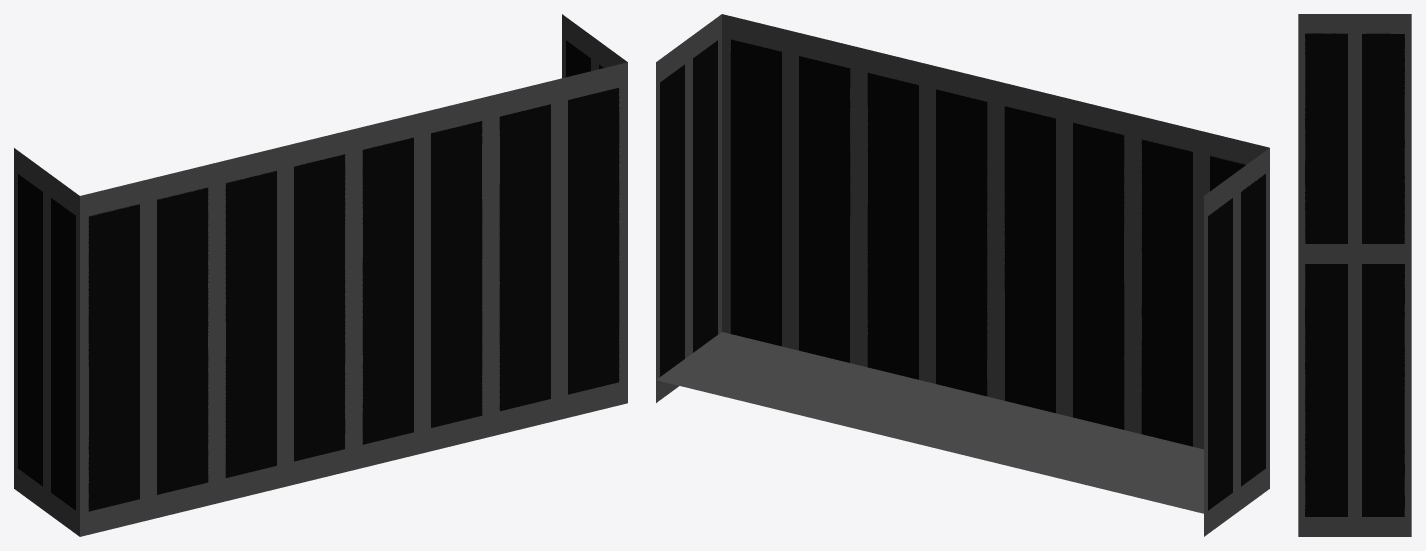
File: WindowStill.fbx
3 renders of one model, left to right at view 1: azimuth 30°, elevation 25°; view 2: azimuth 150°, elevation 25°; view 3: azimuth 270°, elevation 25°, orthographic. The views are drawn at different scales.
Visible parts, largest first — view 1: Plane.039; view 2: Plane.039; view 3: Plane.039.
Part boxes in pixels (bbox=[...]): Plane.039: bbox=[14, 14, 627, 536]; Plane.039: bbox=[656, 14, 1269, 536]; Plane.039: bbox=[1298, 14, 1411, 536].
Bounding box in the file's own units: 98.47 × 58.55 × 20.52.
